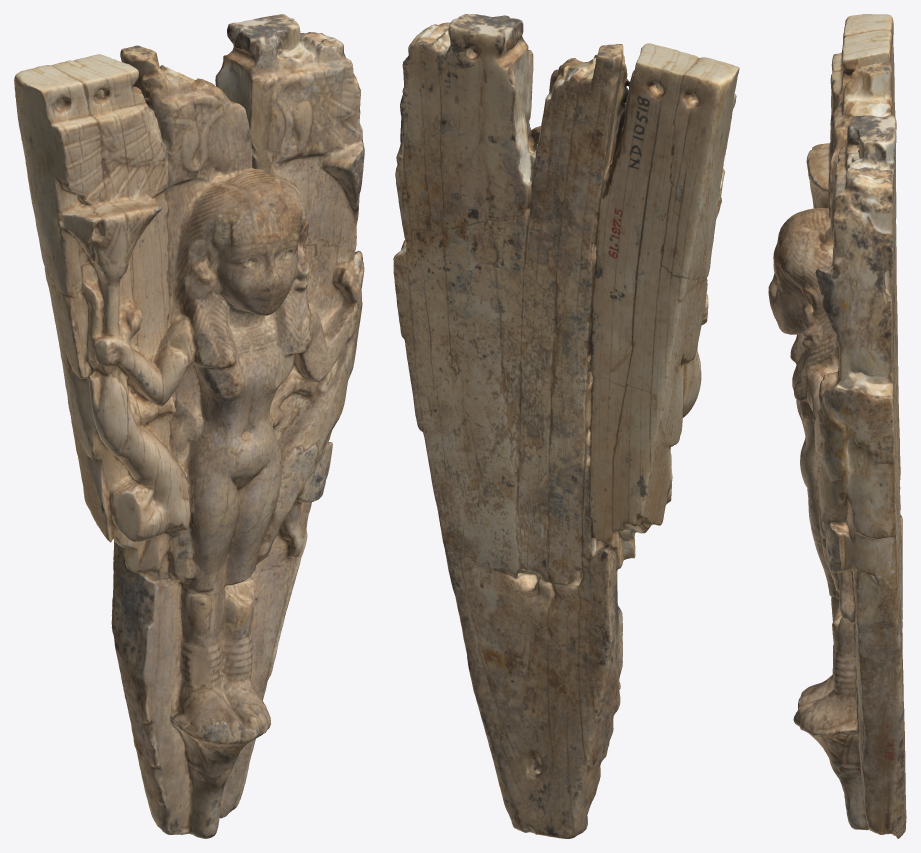
Rendered from preview.glb.
3 views of the same model, side by side, from view 1: azimuth 30°, elevation 25°; view 2: azimuth 150°, elevation 25°; view 3: azimuth 270°, elevation 25° (orthographic). The views are drawn at different scales.
Parts seen in each view (by area): view 1: _D_42034_001_3D_42034_001_u1_v1_n3d; view 2: _D_42034_001_3D_42034_001_u1_v1_n3d; view 3: _D_42034_001_3D_42034_001_u1_v1_n3d.
Boxes of the visible parts, x1,y1,x2,y2 form: _D_42034_001_3D_42034_001_u1_v1_n3d: (14, 14, 364, 838); _D_42034_001_3D_42034_001_u1_v1_n3d: (393, 14, 739, 838); _D_42034_001_3D_42034_001_u1_v1_n3d: (768, 14, 906, 838).
Size of the model in its own units: 0.0708 by 0.1614 by 0.0274.
Materials: 1 (1 with a texture image).
